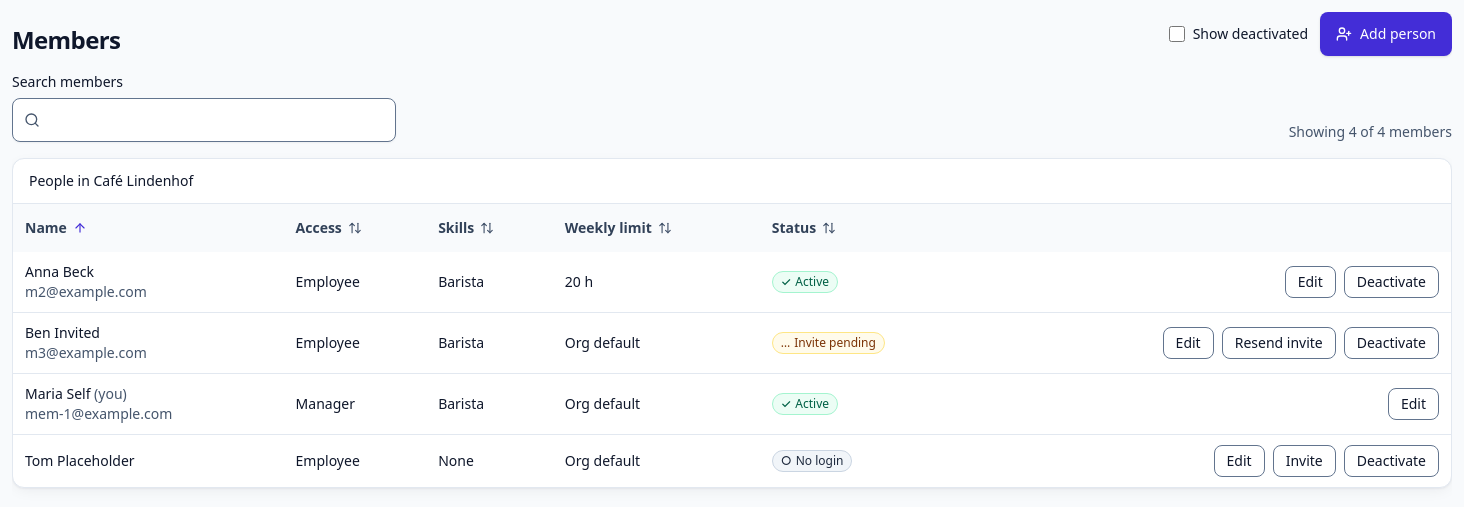
MembersPage › filters rows by search and updates the count
Expected: the message reads "Showing 4 of 4 members", [1289,122,1452,142]
Type "barista" into the search field labelled "Search members" at (204, 120), box [12,98,396,142]
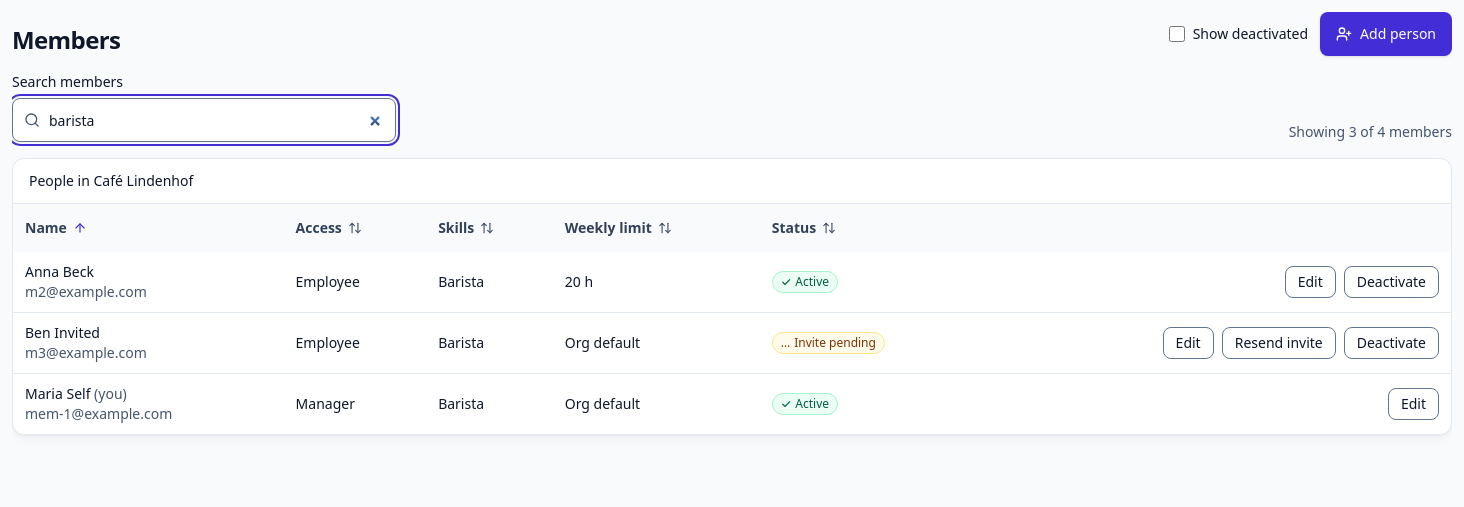
Expected: the column heading "Anna Beck" is shown, [25,262,94,281]
Expected: the message reads "Showing 3 of 4 members", [1289,122,1452,142]
Expected: the column heading "Tom Placeholder" is gone
